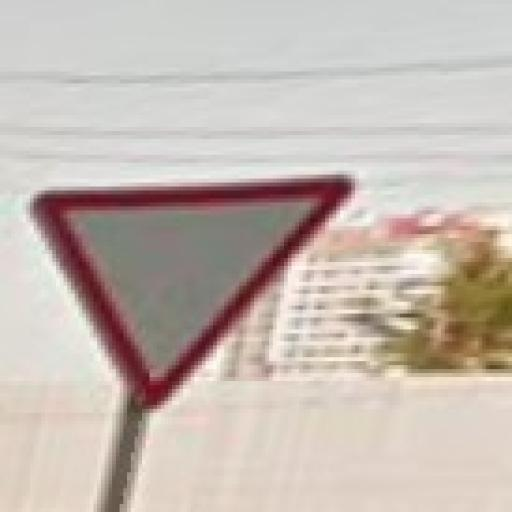traffic_sign: (31, 176, 352, 410)
